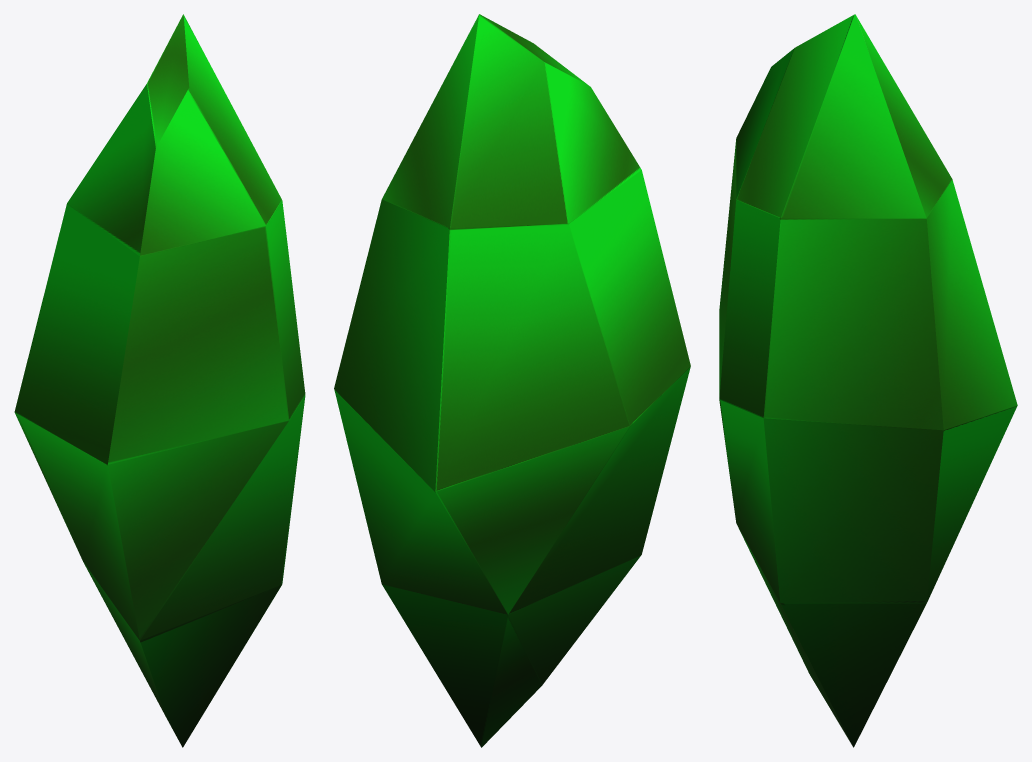
Rendered from crystals.fbx.
3 renders of one model, left to right at view 1: azimuth 30°, elevation 25°; view 2: azimuth 150°, elevation 25°; view 3: azimuth 270°, elevation 25°, orthographic.
Visible parts, largest first — view 1: pCube1; view 2: pCube1; view 3: pCube1.
Part boxes in pixels (x1,y1,x2,y2): pCube1: (14, 14, 305, 747); pCube1: (334, 14, 690, 747); pCube1: (719, 14, 1017, 747).
Size of the model in its own units: 13.94 by 37.48 by 13.8.
1 material, 1 textured.
